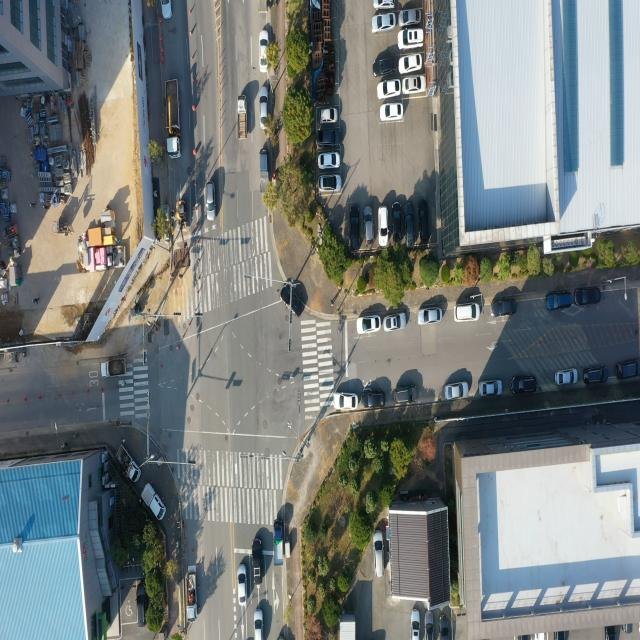car: (280, 284, 304, 320), (544, 287, 572, 312), (373, 530, 385, 580), (252, 538, 263, 590), (332, 391, 358, 413), (361, 387, 386, 409), (418, 197, 430, 242), (373, 11, 397, 32), (453, 304, 479, 323), (490, 300, 516, 319), (575, 287, 601, 306), (363, 201, 374, 245), (205, 179, 216, 223), (404, 202, 415, 245), (511, 376, 537, 394), (444, 382, 470, 400), (259, 86, 270, 128), (380, 102, 403, 122), (398, 54, 421, 74), (378, 80, 400, 100), (617, 359, 639, 379), (350, 205, 360, 249), (371, 58, 394, 77), (418, 308, 442, 326), (400, 29, 424, 47), (383, 314, 407, 332), (318, 175, 341, 193), (258, 31, 268, 72), (555, 369, 578, 386), (379, 206, 389, 245), (405, 75, 425, 94), (318, 150, 339, 168), (400, 8, 421, 26), (358, 316, 380, 333), (318, 130, 338, 148), (393, 388, 414, 405), (584, 365, 605, 382), (238, 566, 247, 605), (480, 381, 502, 396), (438, 613, 450, 640), (391, 201, 400, 237), (424, 612, 435, 640), (319, 108, 336, 124), (160, 0, 172, 22), (254, 611, 263, 640), (412, 611, 421, 640), (375, 0, 396, 10)
medium_truck: (165, 78, 181, 160)
small_truck: (115, 441, 139, 482), (139, 484, 165, 521), (185, 565, 199, 624), (273, 518, 286, 567), (100, 358, 127, 378), (260, 150, 270, 191), (239, 96, 247, 138)
